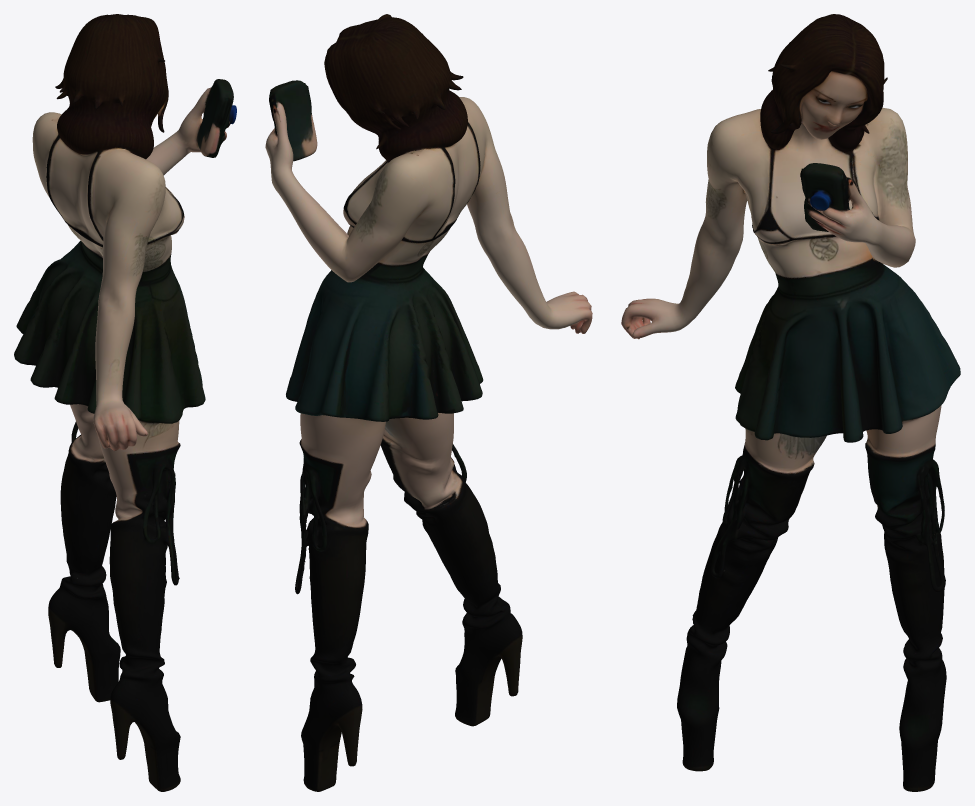
3 renders of one model, left to right at view 1: azimuth 30°, elevation 25°; view 2: azimuth 150°, elevation 25°; view 3: azimuth 270°, elevation 25°, orthographic. The views are drawn at different scales.
Visible parts, largest first — view 1: tripo_node_f3d8bfc8-25e8-4ef0-acf6-84513c94f2ab; view 2: tripo_node_f3d8bfc8-25e8-4ef0-acf6-84513c94f2ab; view 3: tripo_node_f3d8bfc8-25e8-4ef0-acf6-84513c94f2ab.
Boxes of the visible parts, x1,y1,x2,y2 form: tripo_node_f3d8bfc8-25e8-4ef0-acf6-84513c94f2ab: (14,14,236,791); tripo_node_f3d8bfc8-25e8-4ef0-acf6-84513c94f2ab: (265,14,592,791); tripo_node_f3d8bfc8-25e8-4ef0-acf6-84513c94f2ab: (621,14,960,791).
Bounding box in the file's own units: 0.5508 × 1.7 × 0.6924.
1 material, 1 textured.
